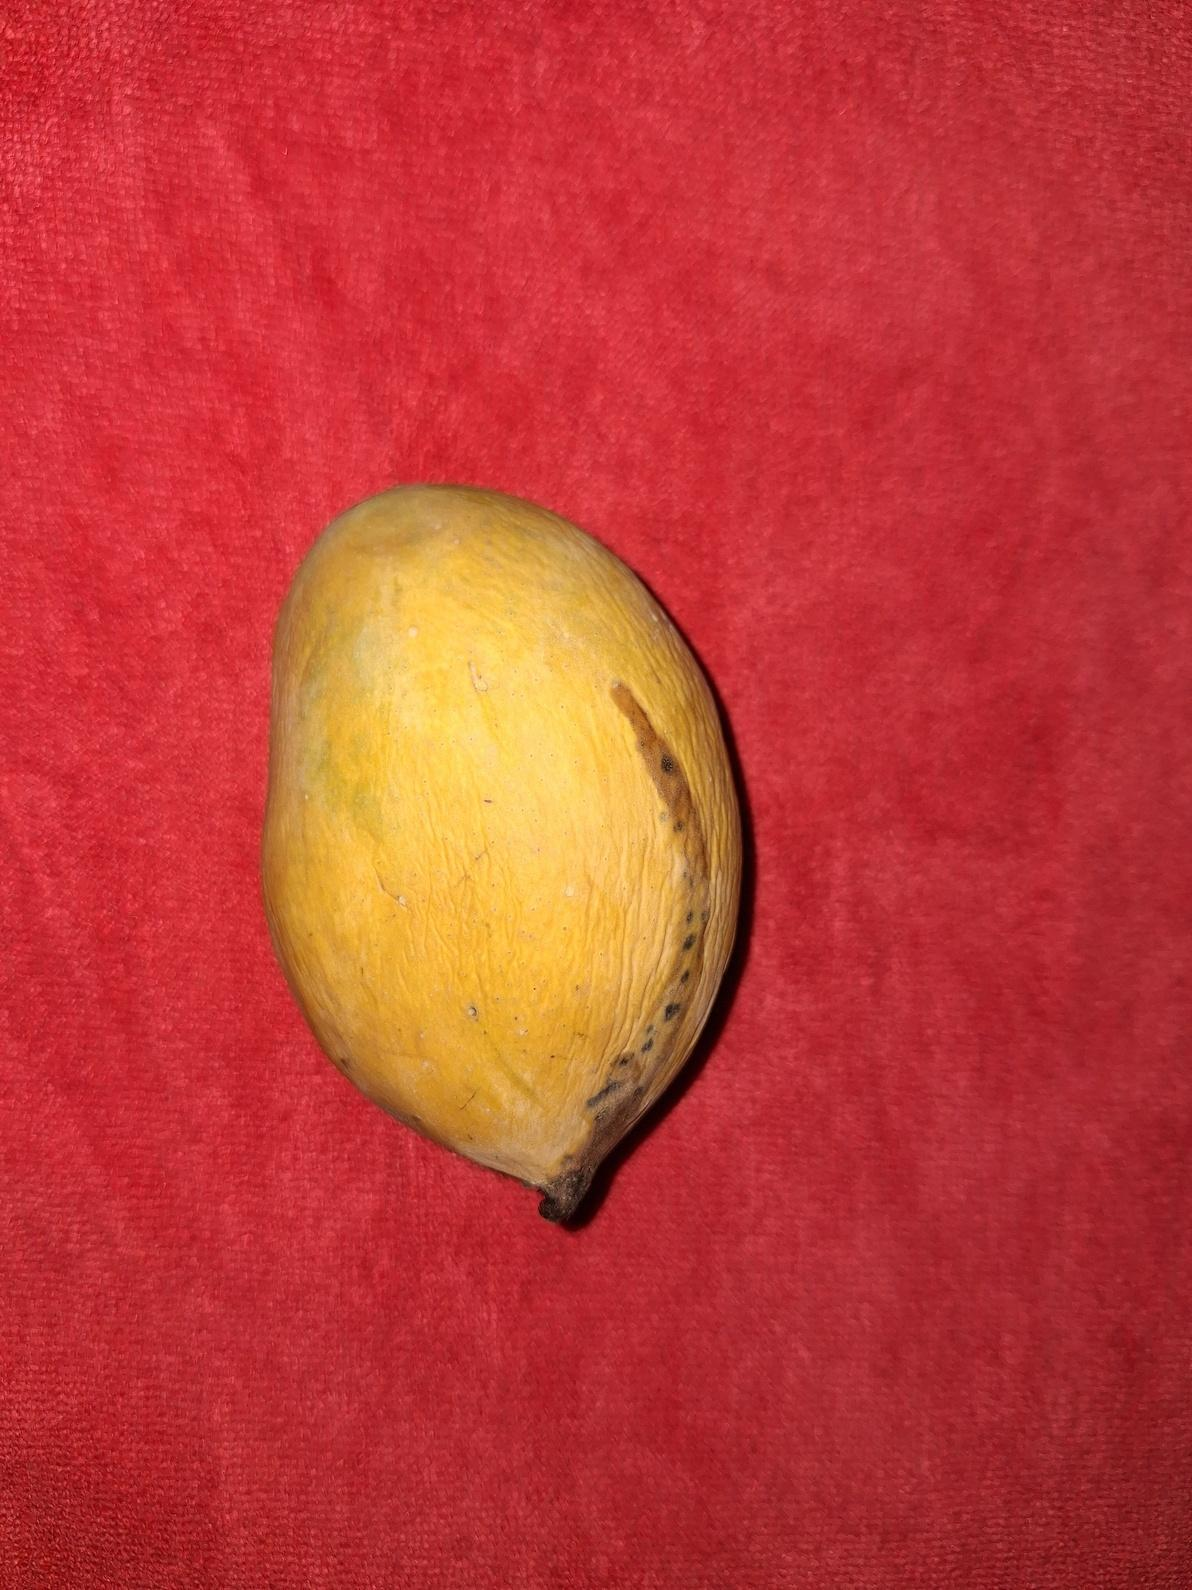mango: (258, 480, 742, 1224)
